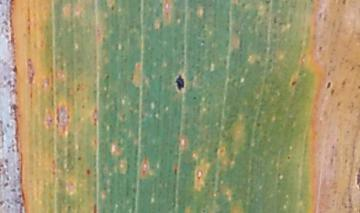tarspot: (173, 73, 187, 93), (354, 163, 360, 187), (325, 81, 332, 90), (11, 64, 18, 73), (290, 79, 297, 86), (285, 154, 291, 161), (356, 82, 360, 89), (341, 1, 347, 5)
